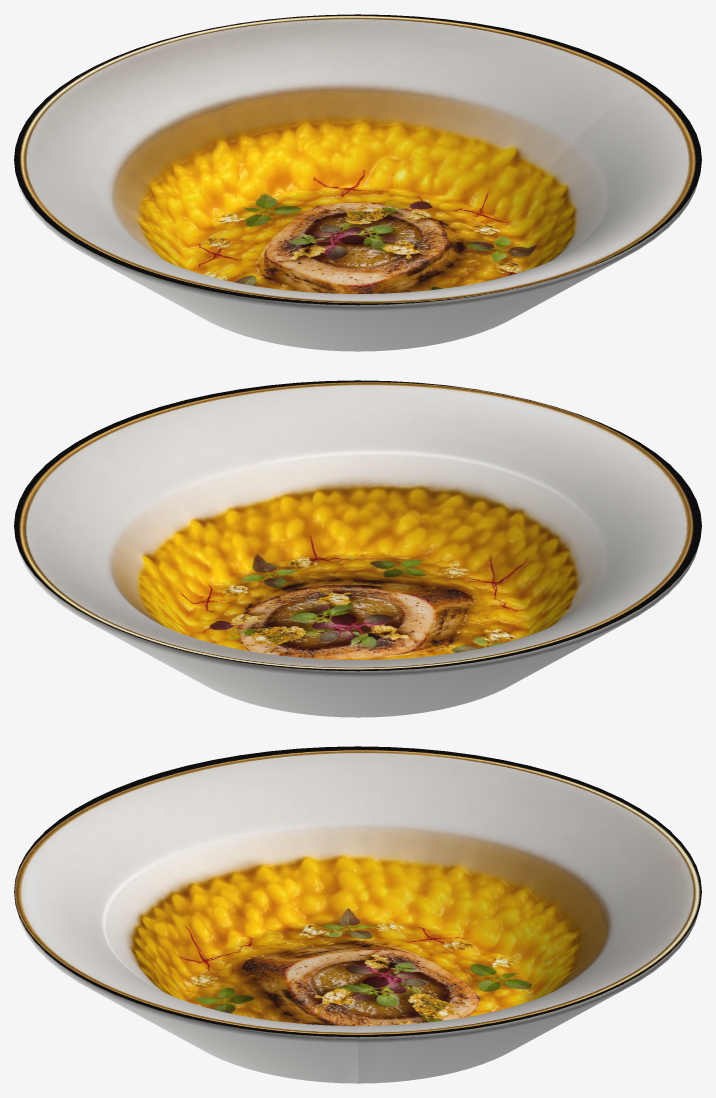
Rendered from risoto-milanese.glb.
3 views of the same model, one above another, from view 1: azimuth 30°, elevation 25°; view 2: azimuth 150°, elevation 25°; view 3: azimuth 270°, elevation 25° (orthographic).
Parts seen in each view (by area): view 1: dish; view 2: dish; view 3: dish.
Boxes of the visible parts, x1=… form: dish: x1=14, y1=14, x2=701, y2=351; dish: x1=14, y1=380, x2=701, y2=717; dish: x1=14, y1=746, x2=701, y2=1083.
Bounding box in the file's own units: 0.26 × 0.05 × 0.26.
2 materials, 1 textured.
